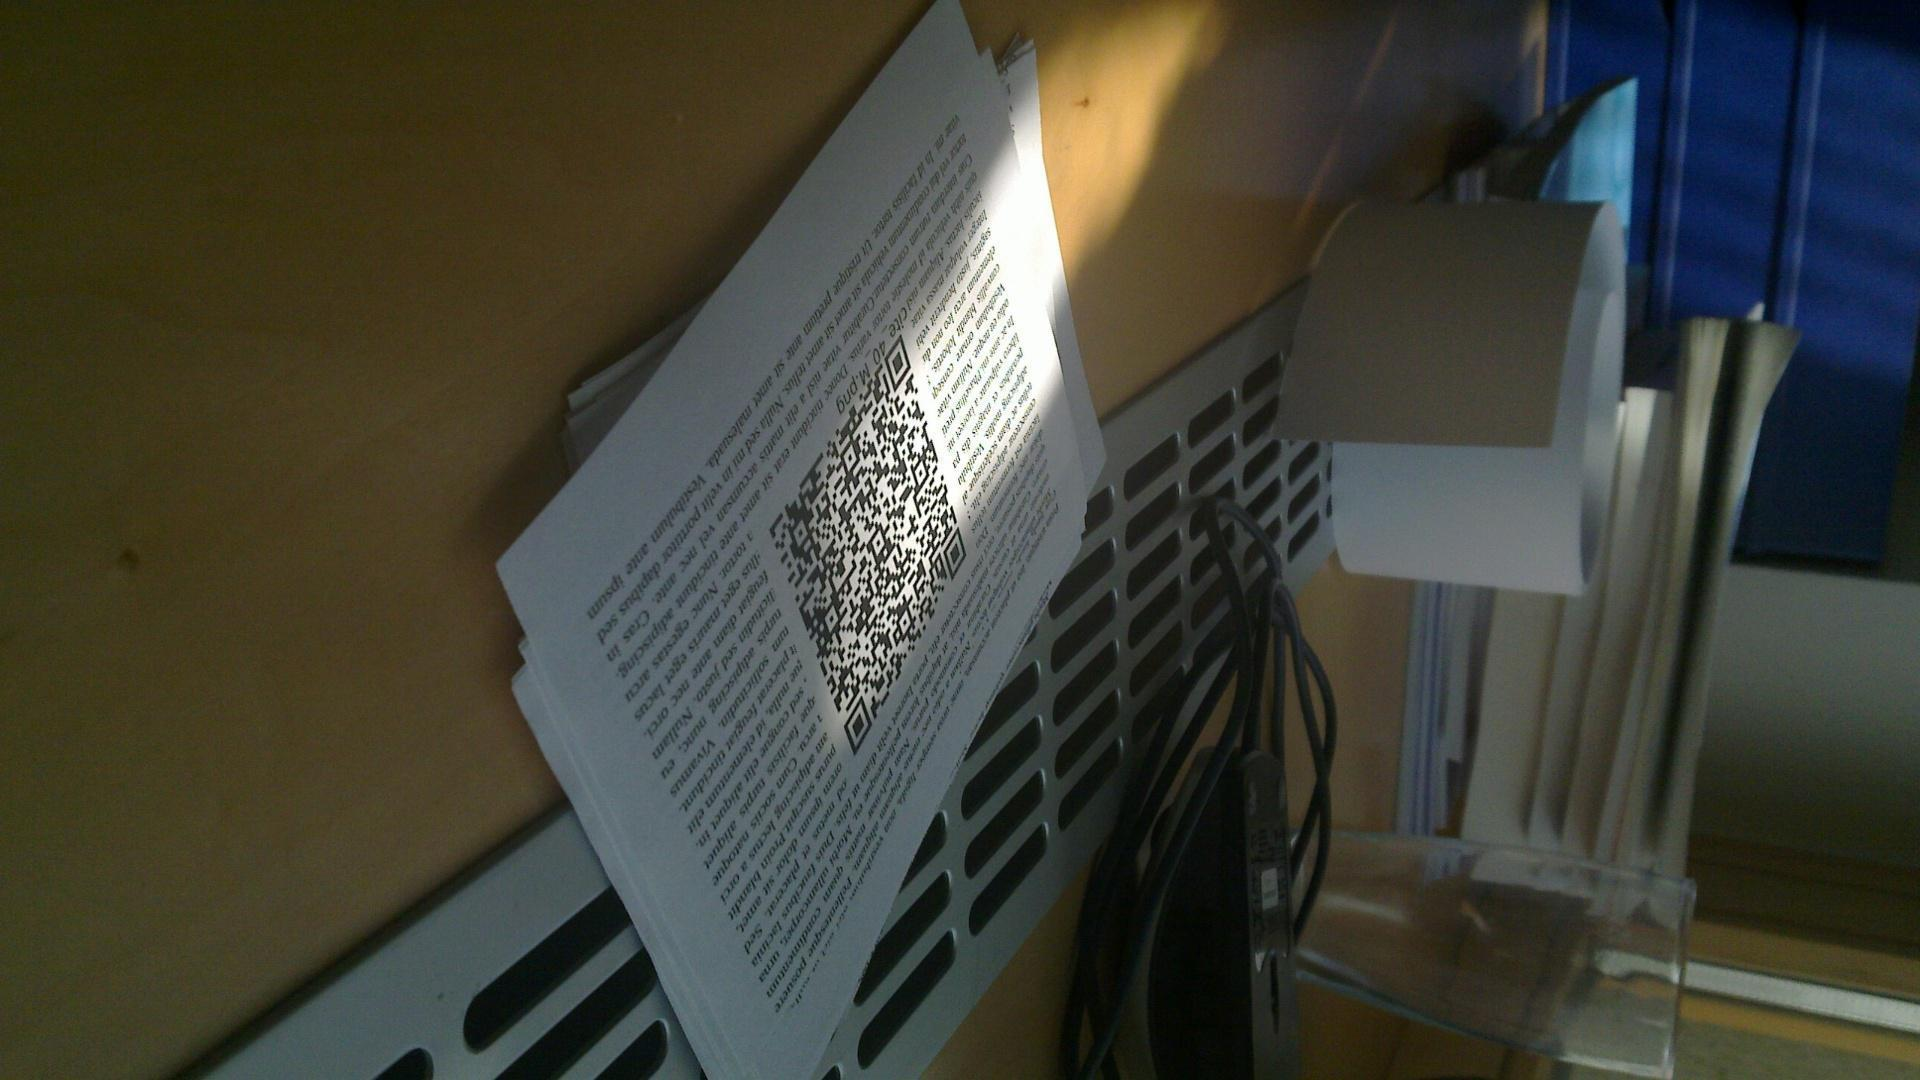qr_code: (769, 334, 968, 757)
